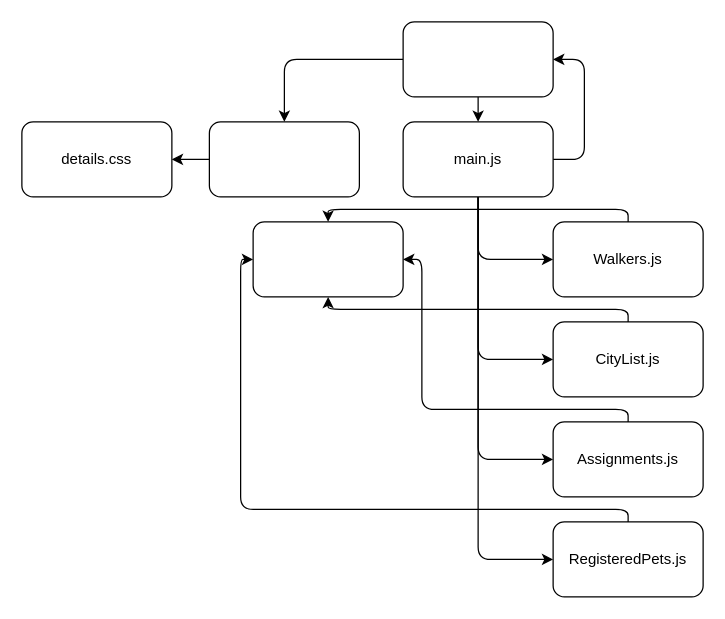
Image size: 725x619. Some labels were removed from this diagram. Each missing label, with the centre of its shape:
database.js: the point at 327,259
index.html: the point at 477,59
main.css: the point at 283,159
